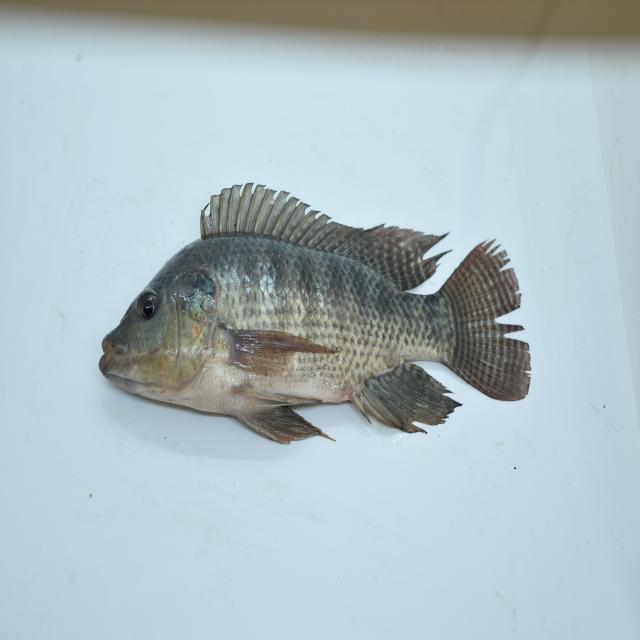Healthy Fish: (100, 175, 531, 449)
